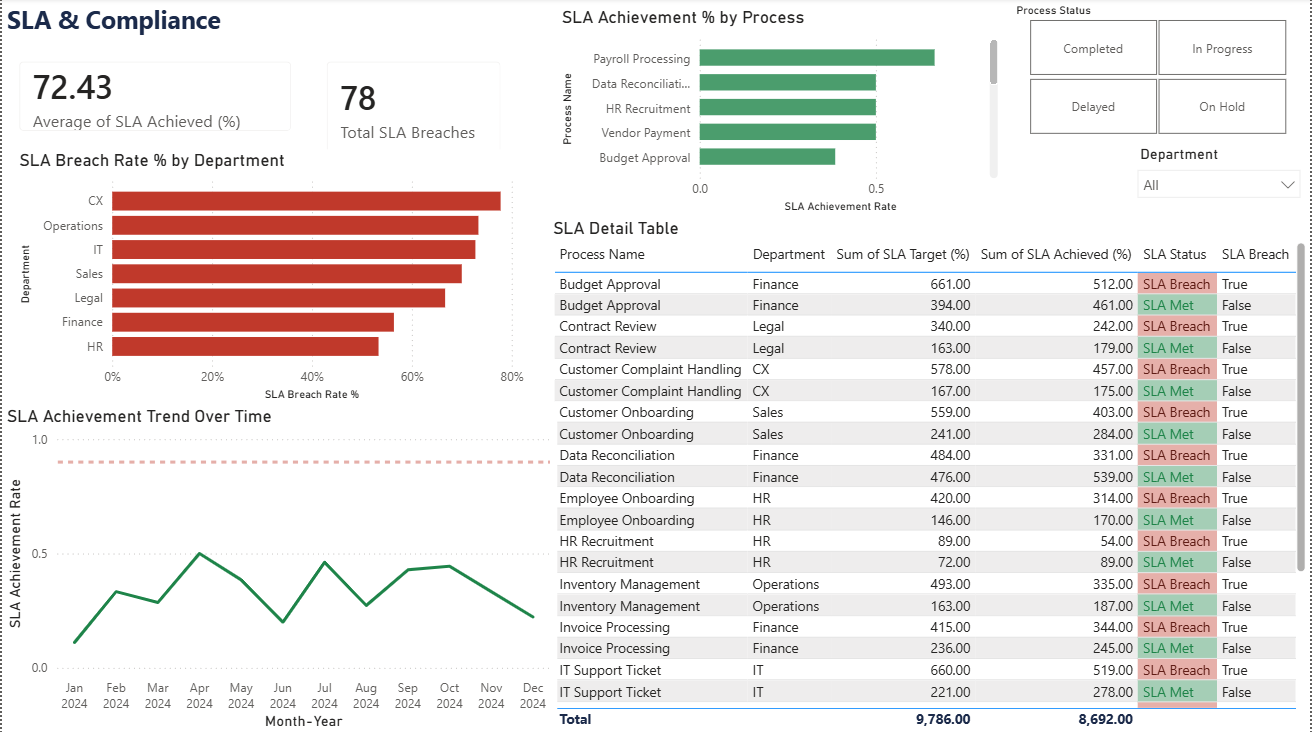

Layout of this report page (visuals, bound fields, positions):
{"tool":"powerbi","page":{"name":"SLA & Compliance","canvas":[1280,720],"ordinal":3},"visuals":[{"type":"slicer","title":"Filter by Department","fields":{"Values":["process_data.Department"]},"box":[1100.1,139.6,179.9,68.6],"z":0},{"type":"slicer","fields":{"Values":["process_data.Process Status"]},"box":[979.4,0,300.6,139.6],"z":1},{"type":"cardVisual","fields":{"Data":["Avg(process_data.SLA Achieved (%))"]},"box":[0,45.3,300.5,102.9],"z":2},{"type":"cardVisual","fields":{"Data":["process_data.Total SLA Breaches"]},"box":[300.5,45.3,204.5,124.9],"z":3},{"type":"clusteredBarChart","title":"SLA Breach Rate % by Department","fields":{"Y":["process_data.SLA Breach Rate %"],"Category":["process_data.Department"]},"box":[12.3,148.2,503.6,251.1],"z":4},{"type":"clusteredBarChart","title":"SLA Achievement % by Process","fields":{"Category":["process_data.Process Name"],"Y":["process_data.SLA Achievement Rate"]},"box":[542.9,8.6,436.6,206.7],"z":5},{"type":"tableEx","title":"SLA Detail Table","fields":{"Values":["process_data.Process Name","process_data.Department","Sum(process_data.SLA Target (%))","Sum(process_data.SLA Achieved (%))","process_data.SLA Status","process_data.SLA Breach"]},"box":[534.4,215.2,745.9,505],"z":6},{"type":"lineChart","title":"SLA Achievement Trend Over Time","fields":{"Category":["process_data.Month-Year"],"Y":["process_data.SLA Achievement Rate"]},"box":[0,398.6,542.9,321.6],"z":7},{"type":"textbox","box":[0,0,299.5,45.9],"z":8}]}

Visuals, with their boxes in screenshot pixels (x1, y1, x2, y2), scaled from the page's 1280x720 canvas onto the 1312x732 screenshot:
"Filter by Department" slicer: box=[1128, 142, 1311, 212]
slicer - process_data.Process Status: box=[1004, 0, 1311, 142]
cardVisual - Avg(process_data.SLA Achieved (%)): box=[0, 46, 308, 151]
cardVisual - process_data.Total SLA Breaches: box=[308, 46, 518, 173]
"SLA Breach Rate % by Department" clusteredBarChart: box=[13, 151, 529, 406]
"SLA Achievement % by Process" clusteredBarChart: box=[556, 9, 1004, 219]
"SLA Detail Table" tableEx: box=[548, 219, 1311, 731]
"SLA Achievement Trend Over Time" lineChart: box=[0, 405, 556, 731]
textbox: box=[0, 0, 307, 47]
